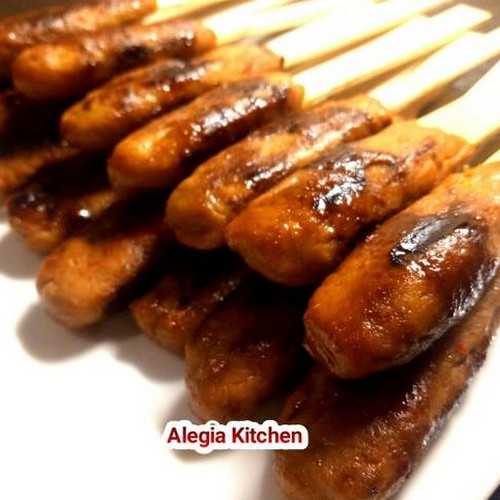sate lilit: (11, 24, 482, 395)
